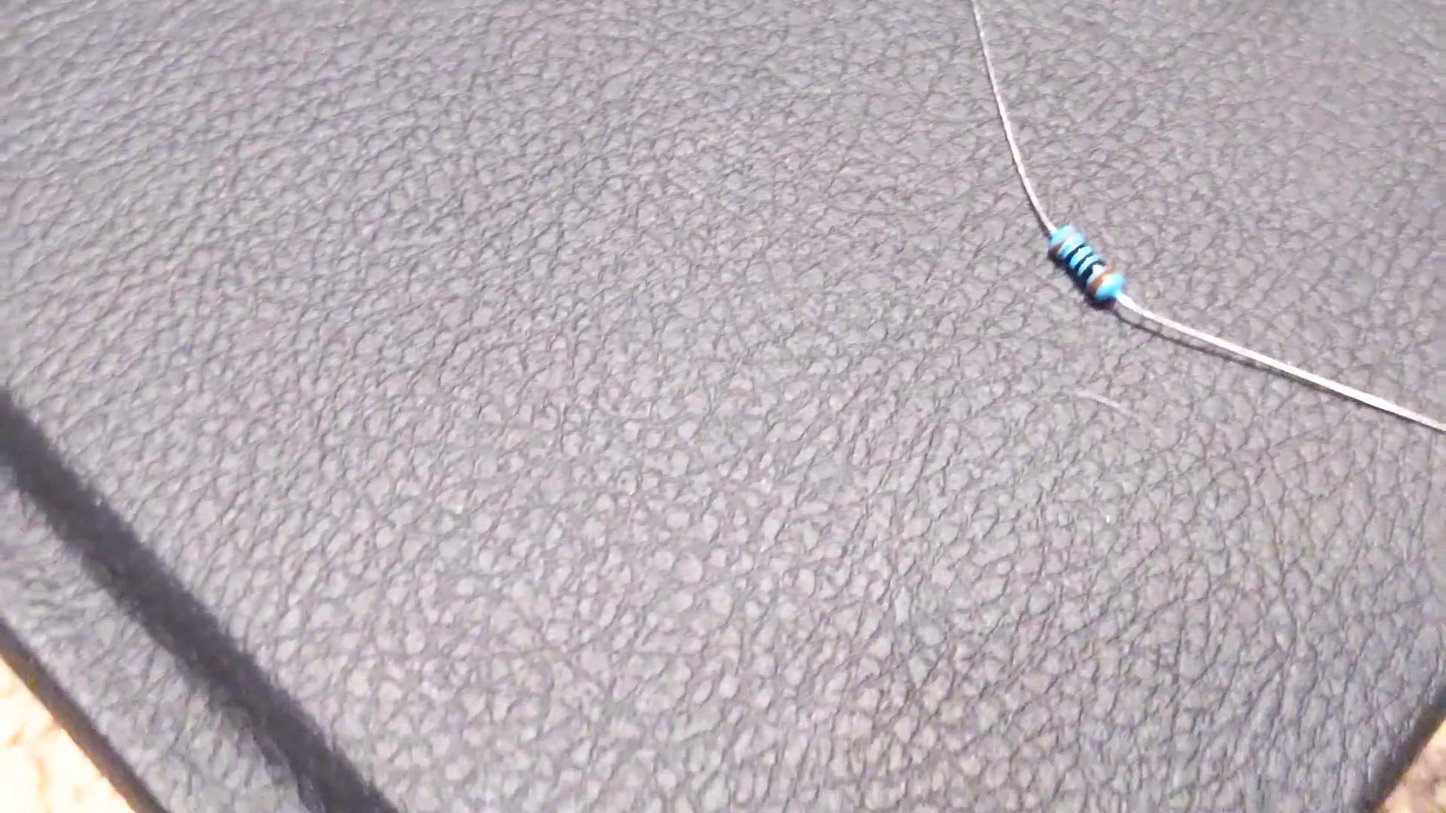resistor: (1042, 220, 1120, 313)
